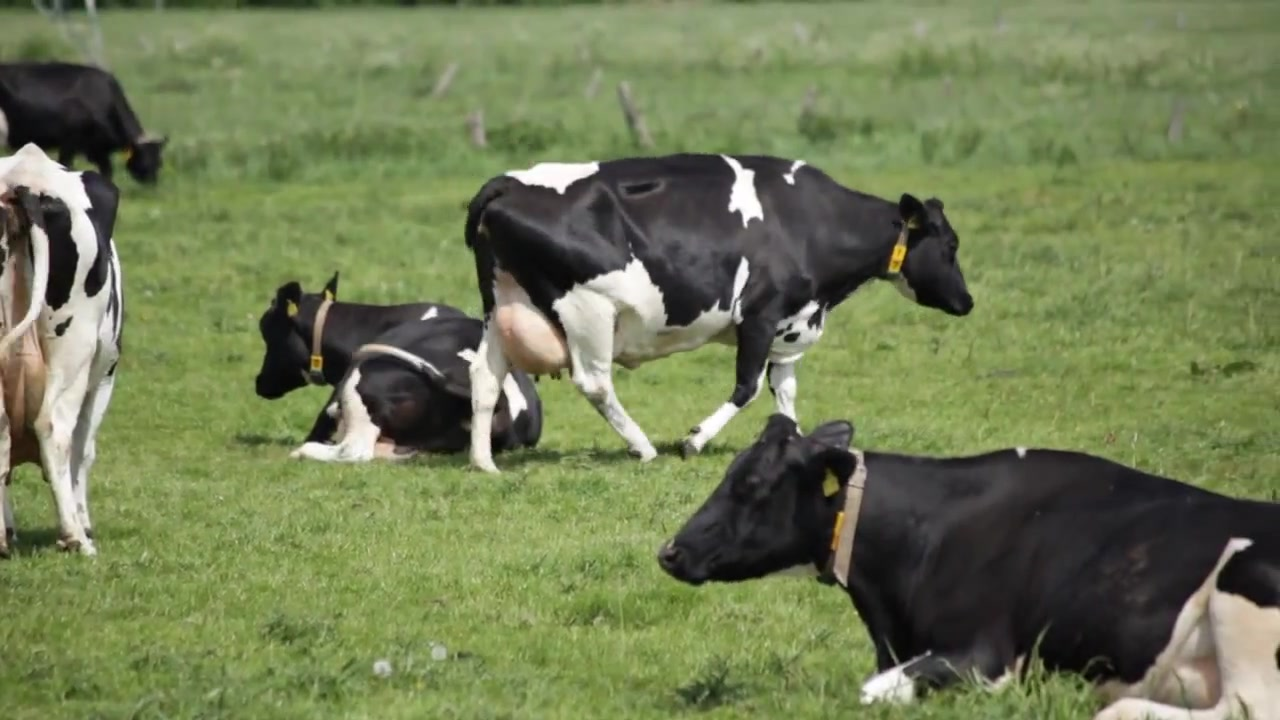cow: (463, 147, 975, 474)
